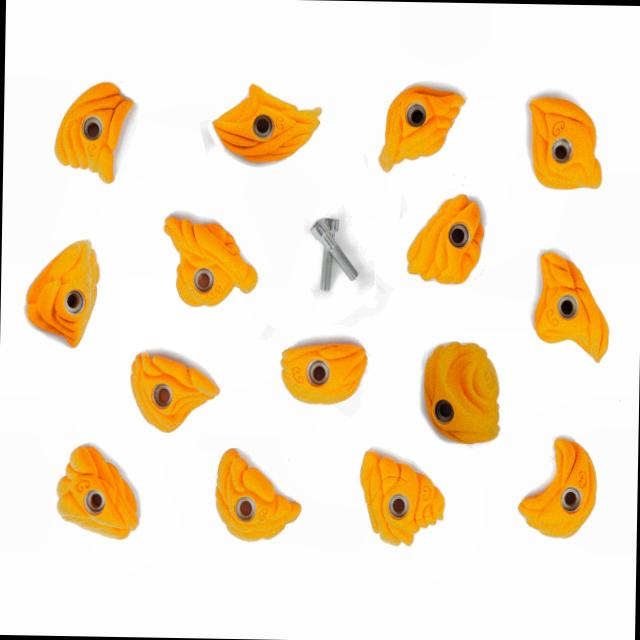Hold: (209, 82, 324, 168), (50, 439, 145, 542), (157, 215, 261, 309), (528, 247, 612, 363), (512, 435, 602, 537), (24, 234, 101, 350), (424, 339, 506, 447), (359, 446, 449, 544), (400, 186, 486, 286), (125, 349, 222, 436), (212, 448, 302, 541), (523, 94, 604, 193), (52, 80, 129, 184), (377, 83, 464, 175), (276, 340, 372, 404)
